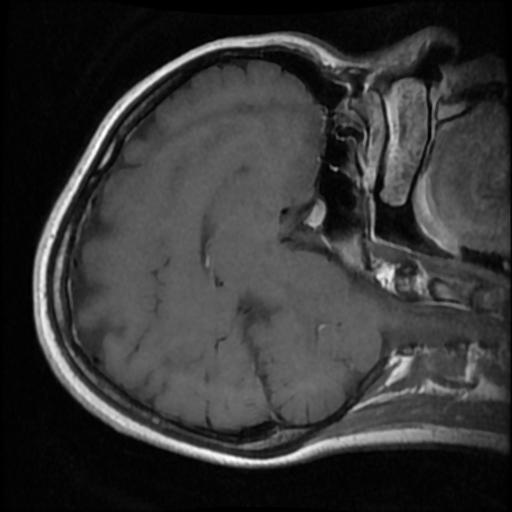pituitary tumour: (306, 199, 324, 229)
